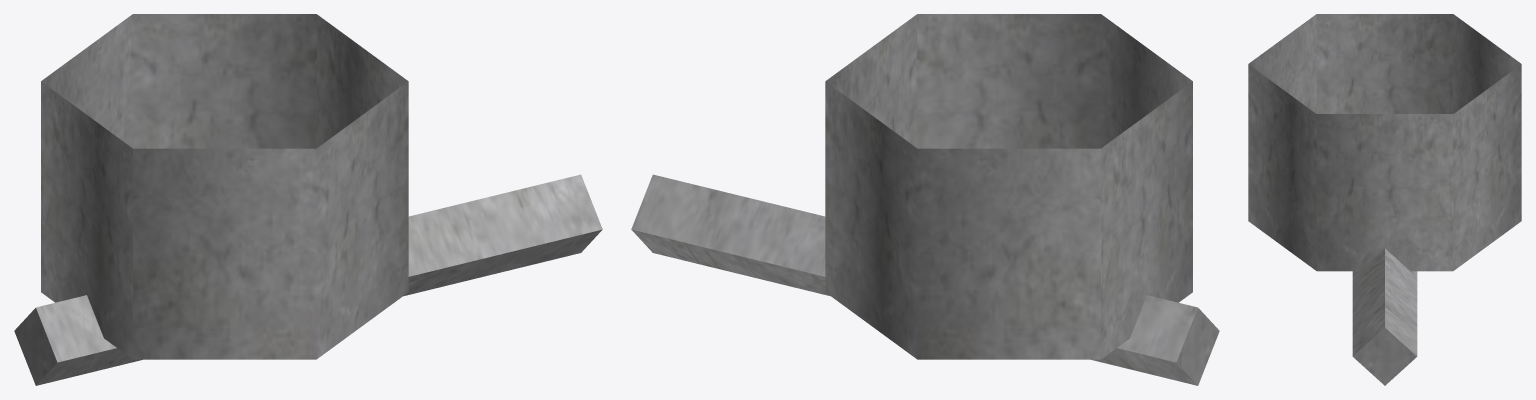
File: Manija_01.glb
3 views of the same model, side by side, from view 1: azimuth 30°, elevation 25°; view 2: azimuth 150°, elevation 25°; view 3: azimuth 270°, elevation 25° (orthographic). The views are drawn at different scales.
Parts seen in each view (by area): view 1: Manija_01; view 2: Manija_01; view 3: Manija_01.
Boxes of the visible parts, bbox=[...] form: Manija_01: bbox=[14, 14, 602, 385]; Manija_01: bbox=[631, 14, 1219, 385]; Manija_01: bbox=[1248, 14, 1521, 385].
Size of the model in its own units: 0.1322 by 0.0599 by 0.0772.
1 material, 1 textured.
